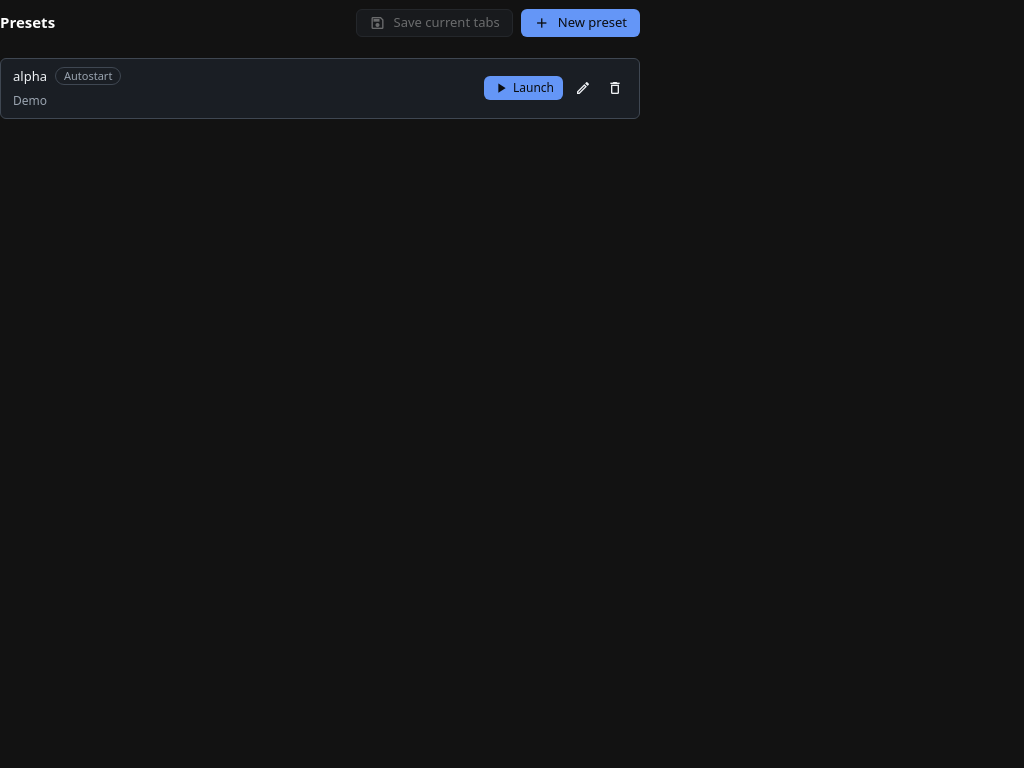
it: PresetsPanel › deletes only after confirmation
The image size is (1024, 768).
Click the button named "Delete alpha" at (615, 88), box top-left (603, 76), bottom-right (627, 100)
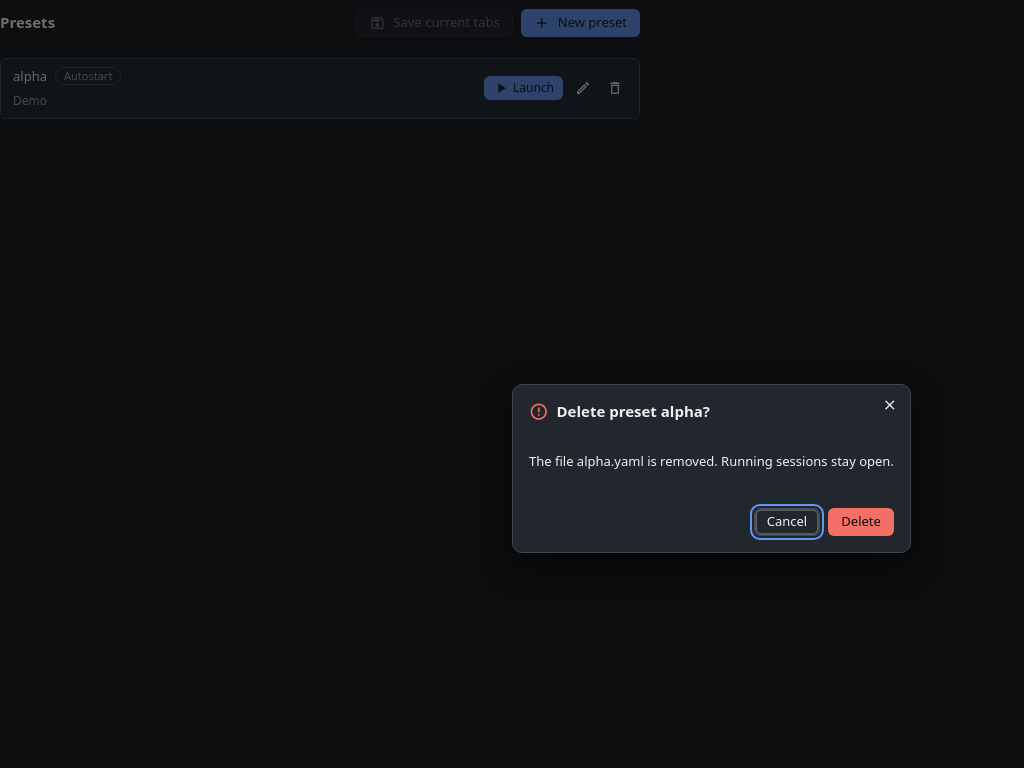
Click the button "Delete" at (861, 522), box top-left (828, 508), bottom-right (894, 536)
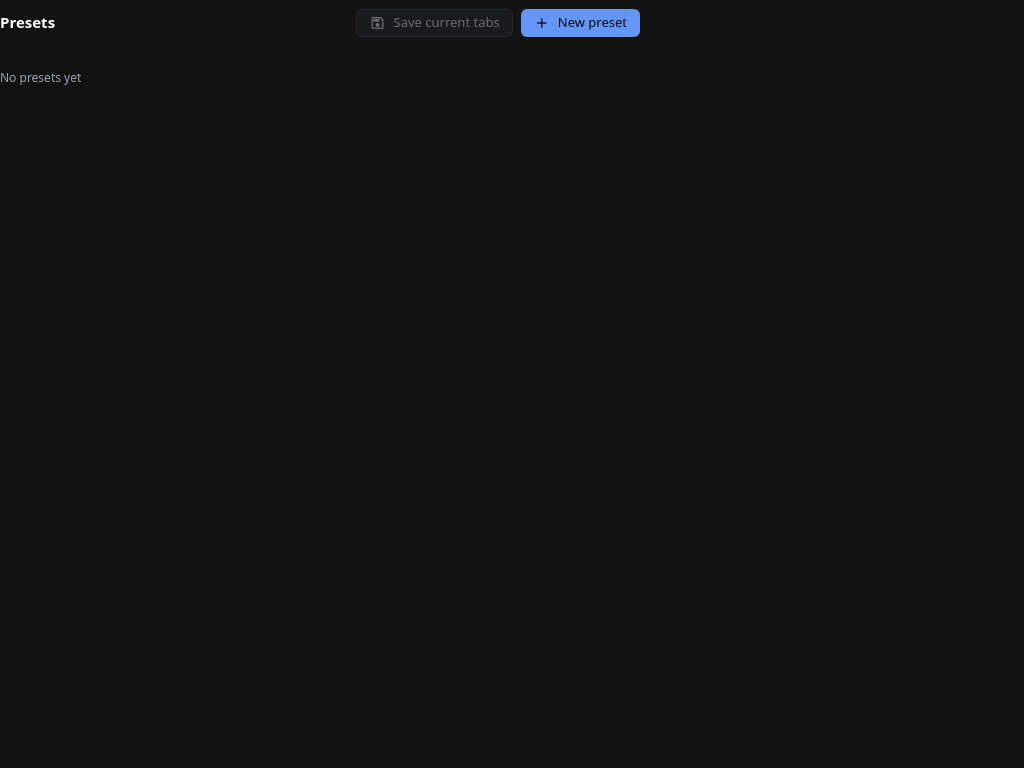
expect the text "Demo" is gone: met
